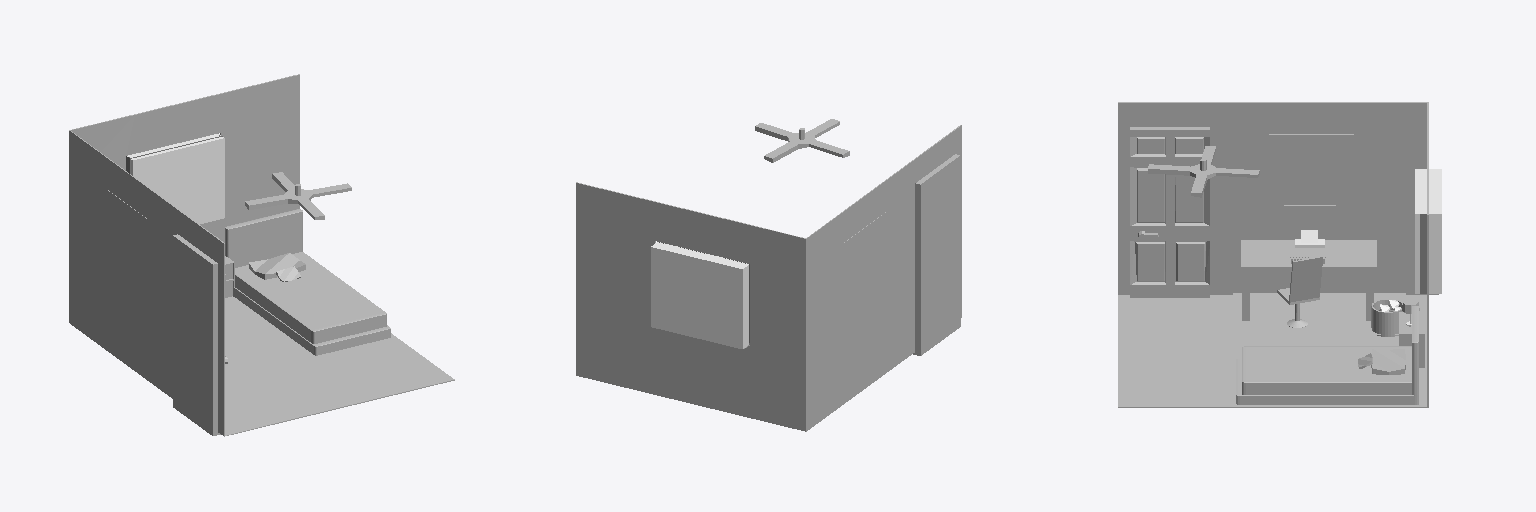
File: Room.obj
3 renders of one model, left to right at view 1: azimuth 30°, elevation 25°; view 2: azimuth 150°, elevation 25°; view 3: azimuth 270°, elevation 25°, orthographic.
Visible parts, largest first — view 1: Cube, Cube.009, Cube.010, CTRL_Hole.001, Cube.004, house, Cylinder.003, Cube.005; view 2: Cube, CTRL_Hole.001, Cube.009, house, Cylinder.003; view 3: Cube, Cube.009, Cube.010, Plane.001, Cube.002, house, Cube.004, CTRL_Hole.001, Cube.007, Cylinder.003, winxp-royale, Cube.005 (+5 smaller).
Boxes of the visible parts, x1=… form: Cube: x1=69, y1=74, x2=454, y2=436; Cube.009: x1=173, y1=234, x2=220, y2=435; Cube.010: x1=235, y1=252, x2=386, y2=343; CTRL_Hole.001: x1=127, y1=134, x2=224, y2=224; Cube.004: x1=225, y1=209, x2=390, y2=355; house: x1=106, y1=189, x2=148, y2=262; Cylinder.003: x1=245, y1=172, x2=351, y2=219; Cube.005: x1=249, y1=253, x2=305, y2=279; Cube: x1=576, y1=125, x2=961, y2=431; CTRL_Hole.001: x1=651, y1=242, x2=748, y2=348; Cube.009: x1=913, y1=154, x2=960, y2=355; house: x1=844, y1=212, x2=886, y2=285; Cylinder.003: x1=755, y1=119, x2=849, y2=162; Cube: x1=1118, y1=102, x2=1428, y2=407; Cube.009: x1=1130, y1=127, x2=1209, y2=297; Cube.010: x1=1242, y1=346, x2=1411, y2=394; Plane.001: x1=1233, y1=293, x2=1405, y2=334; Cube.002: x1=1241, y1=240, x2=1376, y2=273; house: x1=1269, y1=134, x2=1353, y2=177; Cube.004: x1=1236, y1=306, x2=1418, y2=404; CTRL_Hole.001: x1=1415, y1=169, x2=1441, y2=293; Cube.007: x1=1277, y1=256, x2=1322, y2=327; Cylinder.003: x1=1148, y1=146, x2=1259, y2=197; winxp-royale: x1=1285, y1=206, x2=1334, y2=228; Cube.005: x1=1371, y1=349, x2=1405, y2=374.
Bounding box in the file's own units: 3.07 × 2.46 × 3.65.